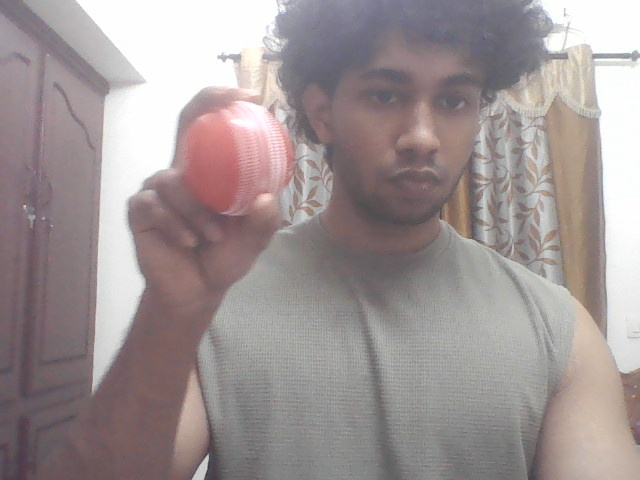cricket_ball: (181, 92, 305, 233)
